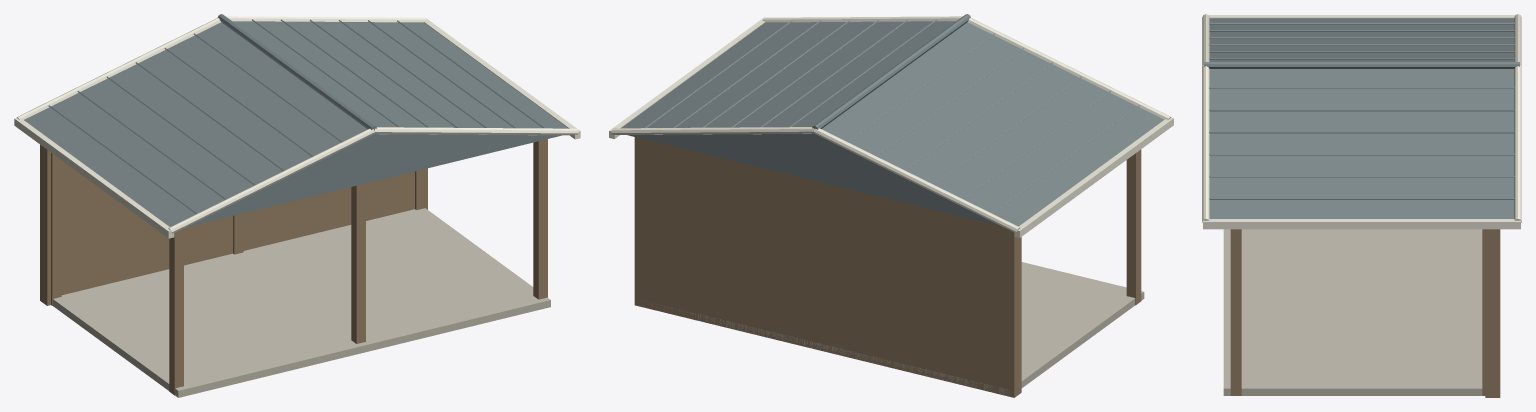
3 renders of one model, left to right at view 1: azimuth 30°, elevation 25°; view 2: azimuth 150°, elevation 25°; view 3: azimuth 270°, elevation 25°, orthographic. The views are drawn at different scales.
Bounding box in the file's own units: 9.73 × 5.26 × 6.35.
